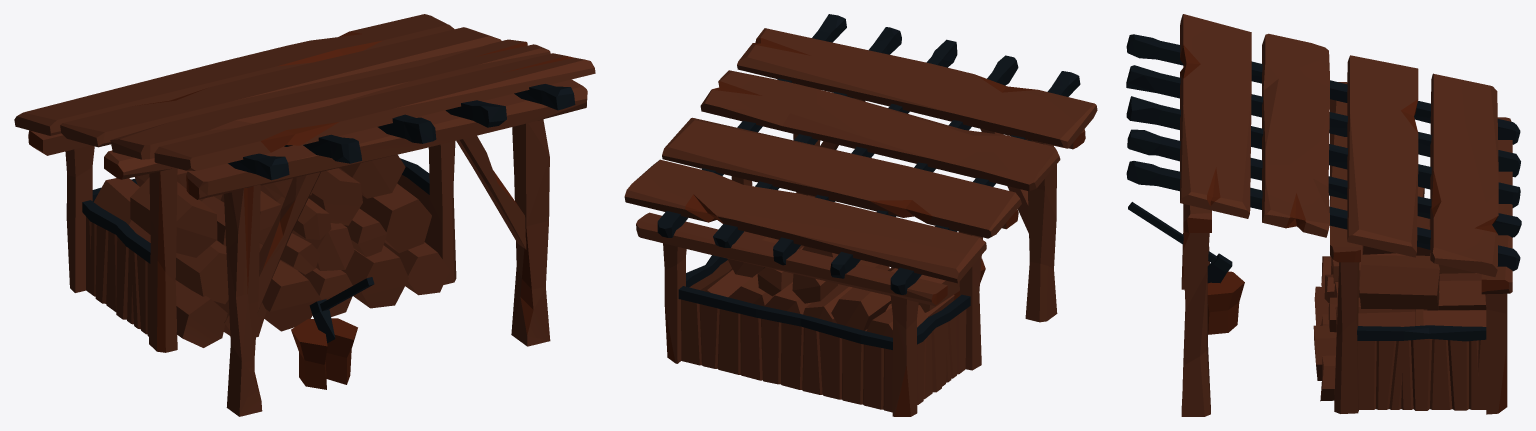
Rendered from Woodshed.fbx.
The picture shows the model from 3 angles, left to right: view 1: azimuth 30°, elevation 25°; view 2: azimuth 150°, elevation 25°; view 3: azimuth 270°, elevation 25°; orthographic projection. The views are drawn at different scales.
Visible parts, largest first — view 1: Woodshed, Stump_001, Axe_001; view 2: Woodshed; view 3: Woodshed, Stump_001, Axe_001.
Part boxes in pixels (x1=…): Woodshed: x1=14, y1=14, x2=595, y2=416; Stump_001: x1=291, y1=318, x2=357, y2=389; Axe_001: x1=309, y1=277, x2=374, y2=343; Woodshed: x1=624, y1=14, x2=1097, y2=416; Woodshed: x1=1126, y1=14, x2=1521, y2=416; Stump_001: x1=1207, y1=271, x2=1244, y2=334; Axe_001: x1=1128, y1=202, x2=1232, y2=283.
Bounding box in the file's own units: 123 × 79.52 × 114.
